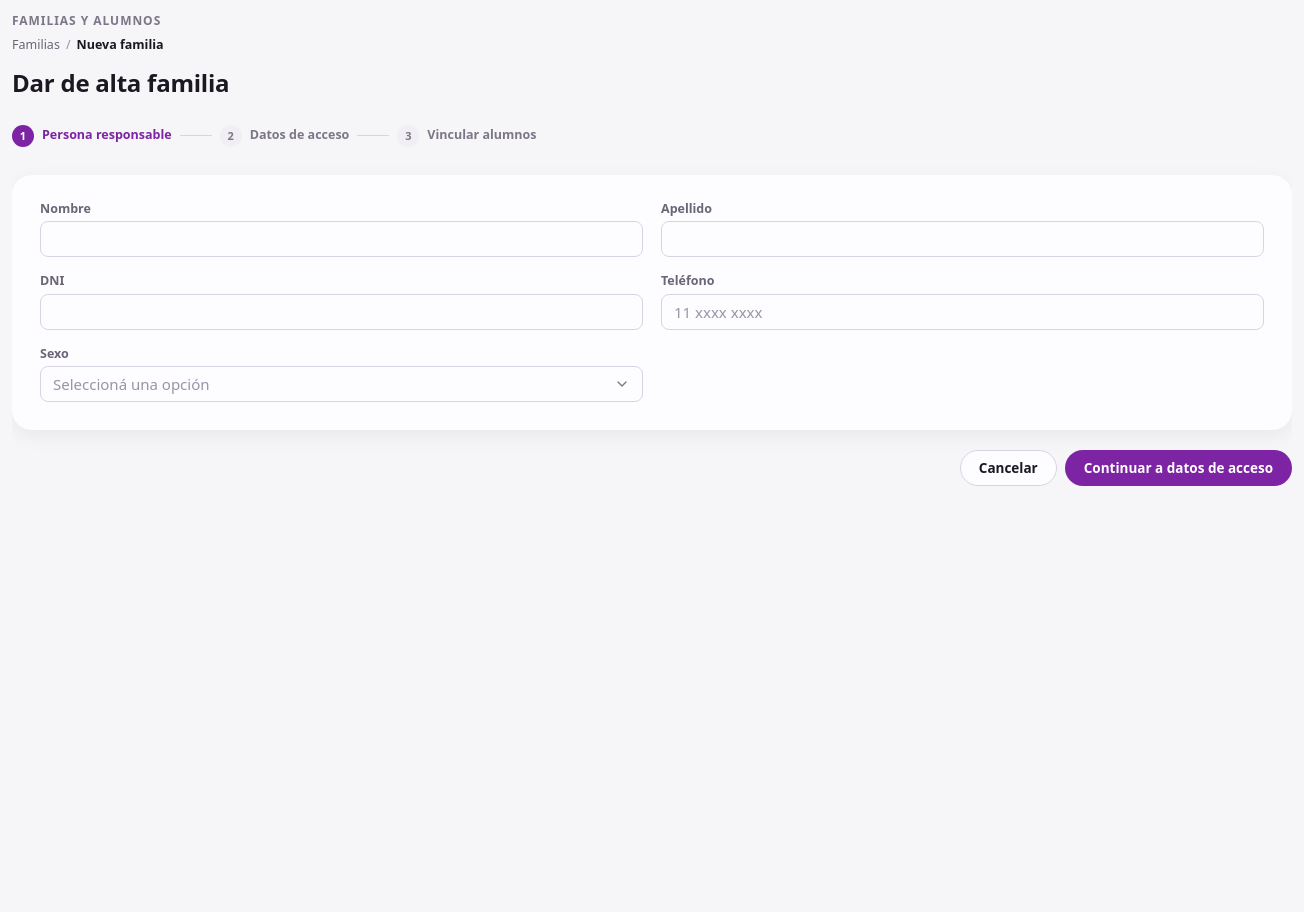
Test: FamiliaForm › shows validation errors for empty fields
Click the button "Continuar a datos de acceso": (1178, 468) [1065,450,1292,486]
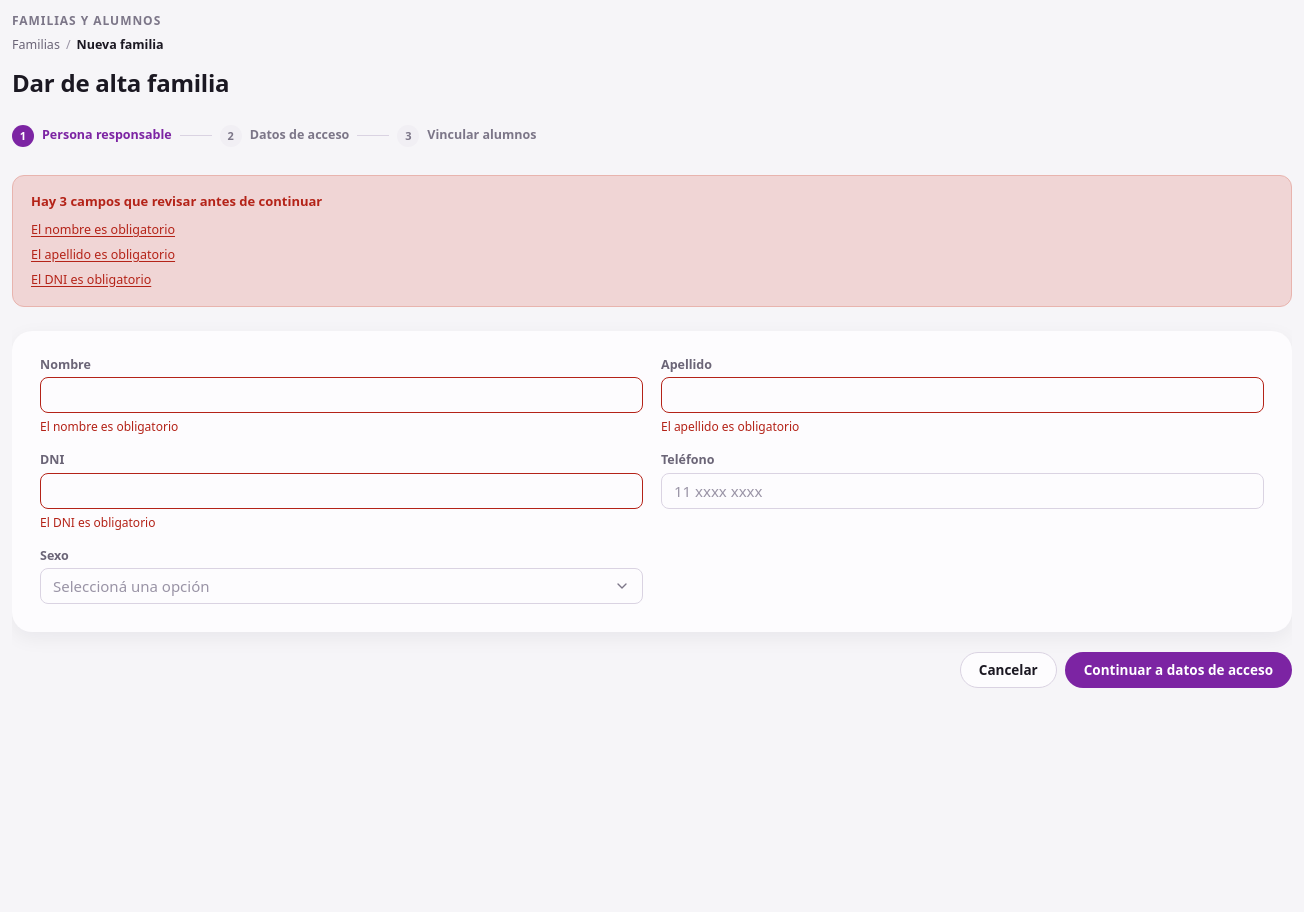
Result: the number of links "El nombre es obligatorio" is 2 at [31,221,175,238]; [40,418,178,435]
Result: the number of links "El apellido es obligatorio" is 2 at [31,246,175,263]; [661,418,799,435]
Result: the number of links "El DNI es obligatorio" is 2 at [31,271,151,288]; [40,514,156,530]
